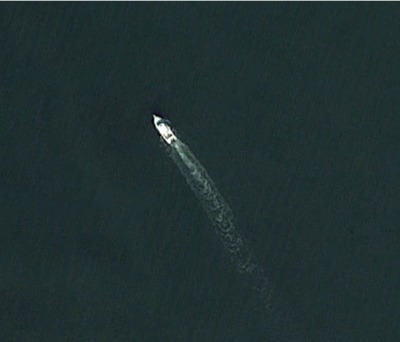boat: (151, 112, 179, 146)
